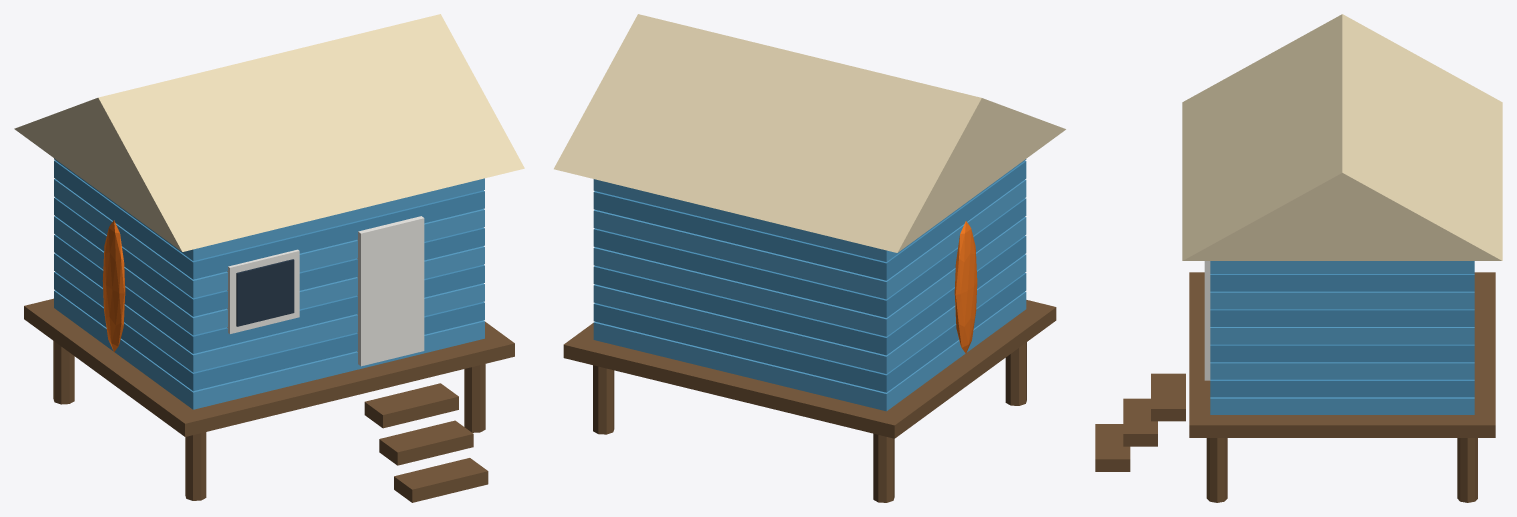
Rendered from haus_strand.glb.
The picture shows the model from 3 angles, left to right: view 1: azimuth 30°, elevation 25°; view 2: azimuth 150°, elevation 25°; view 3: azimuth 270°, elevation 25°; orthographic projection. The views are drawn at different scales.
Visible parts, largest first — view 1: dach, boden, tuer, brett.007, brett, brett.001, brett.002, brett.003, brett.006, brett.005, brett.004, brett.008 (+9 smaller); view 2: dach, boden, brett.007, brett, brett.006, brett.001, brett.005, brett.002, brett.004, brett.003, brett.008, surf (+3 smaller); view 3: dach, boden, brett.001, brett.003, brett.006, brett, brett.002, brett.004, brett.005, brett.007, brett.008, treppe1 (+5 smaller).
Part boxes in pixels (left/top/right/bottom): dach: left=14, top=14, right=524, bottom=251; boden: left=24, top=298, right=514, bottom=436; tuer: left=357, top=216, right=424, bottom=366; brett.007: left=54, top=160, right=484, bottom=279; brett: left=54, top=290, right=484, bottom=409; brett.001: left=54, top=272, right=484, bottom=391; brett.002: left=54, top=253, right=484, bottom=372; brett.003: left=54, top=234, right=484, bottom=353; brett.006: left=54, top=179, right=484, bottom=298; brett.005: left=54, top=197, right=484, bottom=316; brett.004: left=54, top=216, right=484, bottom=335; brett.008: left=54, top=158, right=484, bottom=260; dach: left=554, top=14, right=1065, bottom=252; boden: left=563, top=300, right=1056, bottom=438; brett.007: left=593, top=161, right=1026, bottom=280; brett: left=593, top=291, right=1026, bottom=411; brett.006: left=593, top=179, right=1026, bottom=299; brett.001: left=593, top=273, right=1026, bottom=392; brett.005: left=593, top=198, right=1026, bottom=317; brett.002: left=593, top=254, right=1026, bottom=373; brett.004: left=593, top=217, right=1026, bottom=336; brett.003: left=593, top=235, right=1026, bottom=355; brett.008: left=593, top=159, right=1026, bottom=261; surf: left=954, top=221, right=977, bottom=353; dach: left=1182, top=14, right=1502, bottom=260; boden: left=1189, top=272, right=1495, bottom=437; brett.001: left=1210, top=379, right=1474, bottom=397; brett.003: left=1210, top=344, right=1474, bottom=362; brett.006: left=1210, top=291, right=1474, bottom=309; brett: left=1210, top=397, right=1474, bottom=414; brett.002: left=1210, top=362, right=1474, bottom=379; brett.004: left=1210, top=327, right=1474, bottom=344; brett.005: left=1210, top=309, right=1474, bottom=326; brett.007: left=1210, top=274, right=1474, bottom=291; brett.008: left=1210, top=261, right=1474, bottom=273; treppe1: left=1151, top=373, right=1185, bottom=421.
Size of the model in its own units: 5.4 by 5.4 by 5.85.
